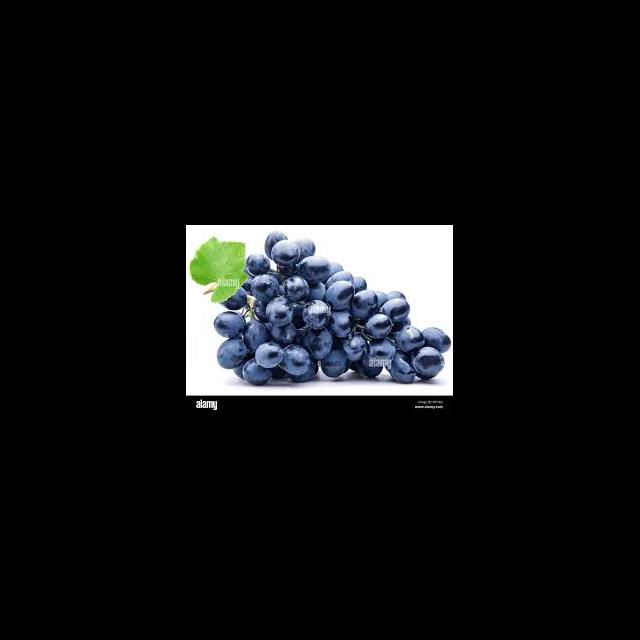grape: (213, 230, 452, 386)
